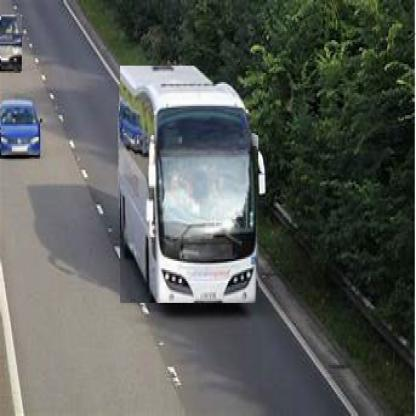bus: (121, 67, 261, 306)
car: (2, 94, 42, 158), (2, 16, 24, 74)
